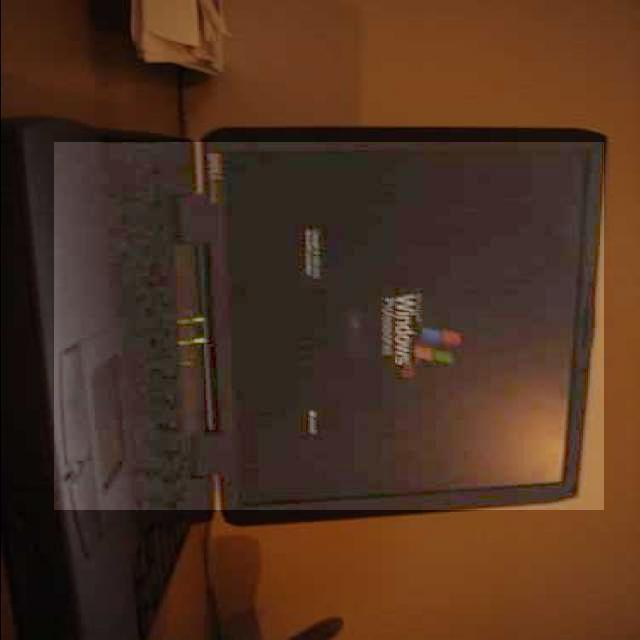-keyboard-: (54, 142, 604, 510)
